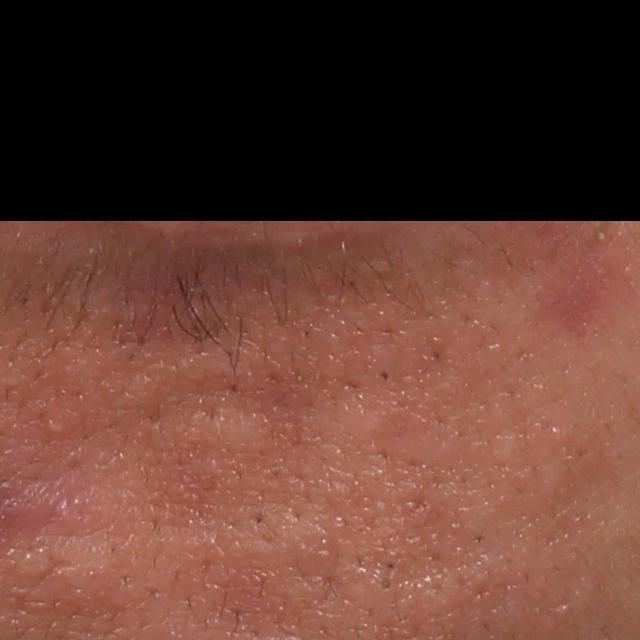hypertrophic_scar: (176, 390, 277, 455), (331, 385, 392, 445)
